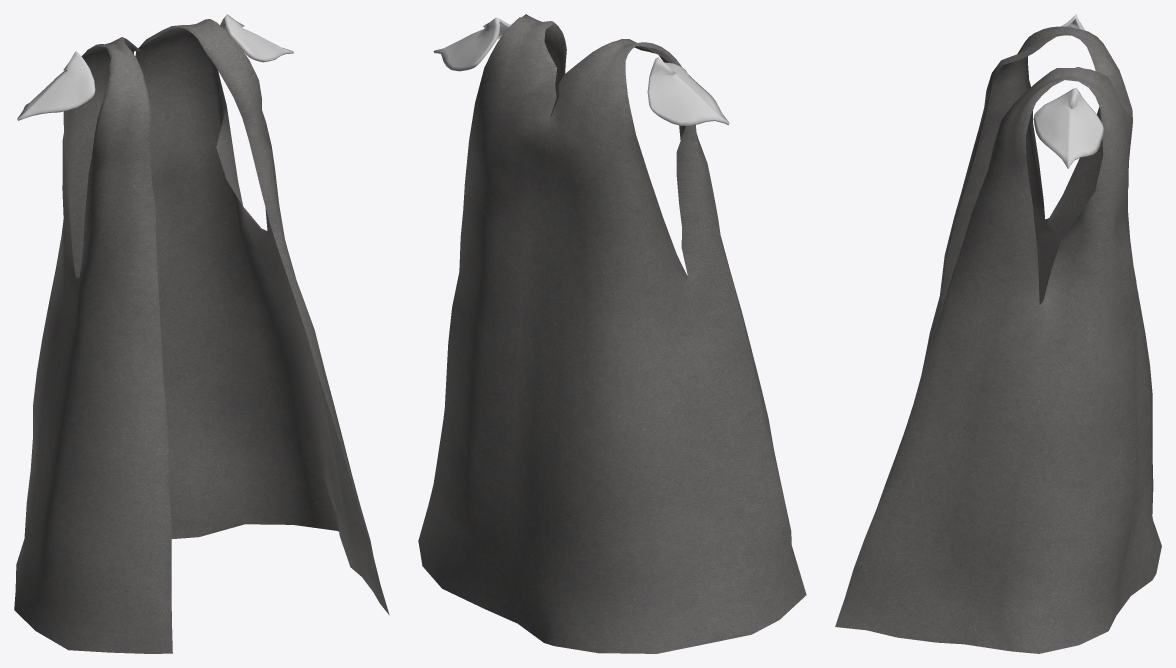
Rendered from rivendell_pauldron_leather_robe.fbx.
3 views of the same model, side by side, from view 1: azimuth 30°, elevation 25°; view 2: azimuth 150°, elevation 25°; view 3: azimuth 270°, elevation 25° (orthographic). The views are drawn at different scales.
Visible parts, largest first — view 1: rivendell_pauldron_leather_robe.0, rivendell_pauldron_leather_robe.1; view 2: rivendell_pauldron_leather_robe.0, rivendell_pauldron_leather_robe.1; view 3: rivendell_pauldron_leather_robe.0, rivendell_pauldron_leather_robe.1.
Part boxes in pixels (x1=…): rivendell_pauldron_leather_robe.0: x1=14, y1=19, x2=389, y2=653; rivendell_pauldron_leather_robe.1: x1=17, y1=14, x2=293, y2=120; rivendell_pauldron_leather_robe.0: x1=418, y1=14, x2=806, y2=653; rivendell_pauldron_leather_robe.1: x1=433, y1=17, x2=729, y2=125; rivendell_pauldron_leather_robe.0: x1=835, y1=26, x2=1161, y2=653; rivendell_pauldron_leather_robe.1: x1=1033, y1=14, x2=1103, y2=168.
Bounding box in the file's own units: 0.8449 × 0.7529 × 1.36.
